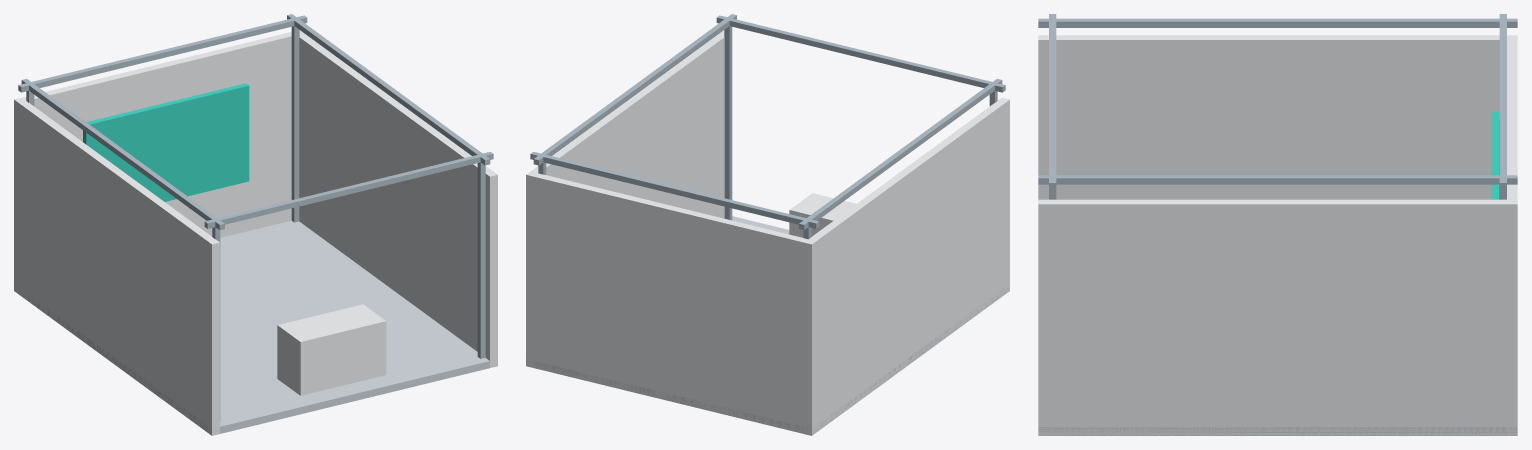
3 views of the same model, side by side, from view 1: azimuth 30°, elevation 25°; view 2: azimuth 150°, elevation 25°; view 3: azimuth 270°, elevation 25° (orthographic). The views are drawn at different scales.
Parts seen in each view (by area): view 1: Exhibition Booth Concept; view 2: Exhibition Booth Concept; view 3: Exhibition Booth Concept.
Part boxes in pixels (x1=…): Exhibition Booth Concept: x1=14, y1=14, x2=497, y2=435; Exhibition Booth Concept: x1=526, y1=14, x2=1009, y2=435; Exhibition Booth Concept: x1=1038, y1=14, x2=1517, y2=435.
Size of the model in its own units: 5 by 3.49 by 6.
